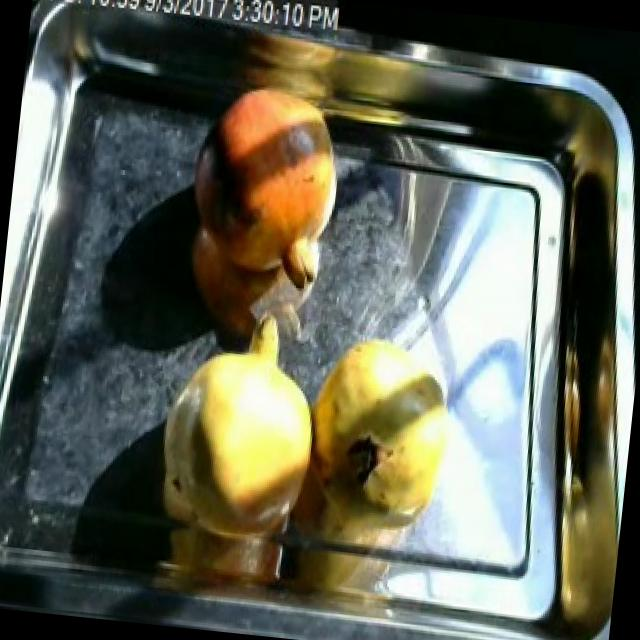fruit: (136, 308, 338, 564), (176, 68, 356, 304), (295, 320, 469, 536)
